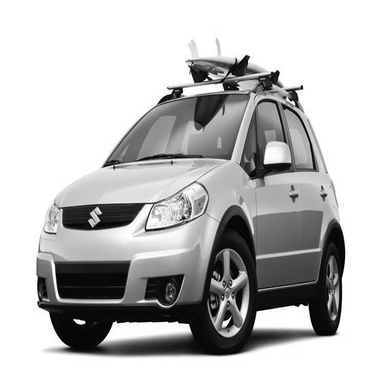car: (20, 39, 351, 334)
